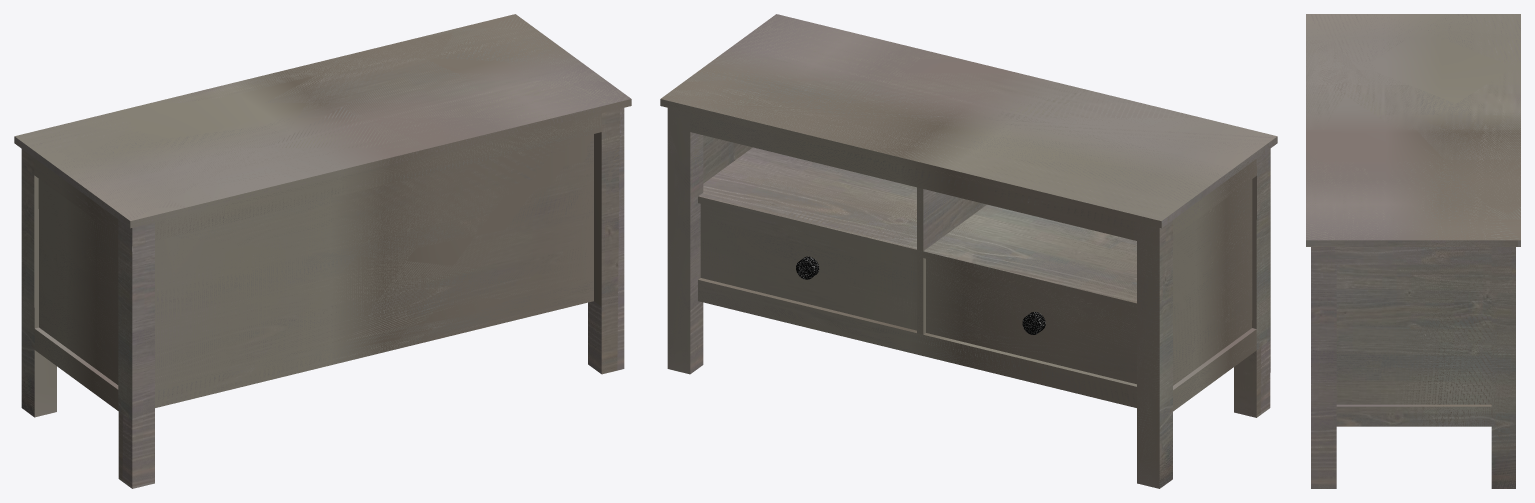
The model's file is TV-Bank_Hemnes.dae.
3 renders of one model, left to right at view 1: azimuth 30°, elevation 25°; view 2: azimuth 150°, elevation 25°; view 3: azimuth 270°, elevation 25°, orthographic. The views are drawn at different scales.
Visible parts, largest first — view 1: SketchUp; view 2: SketchUp; view 3: SketchUp.
Boxes of the visible parts, bbox=[...] form: SketchUp: bbox=[14, 14, 631, 488]; SketchUp: bbox=[660, 14, 1277, 488]; SketchUp: bbox=[1306, 14, 1520, 488].
Size of the model in its own units: 1.1 by 0.4428 by 0.57.
29 materials, 28 textured.
